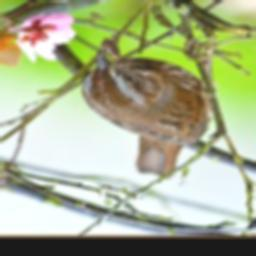Sparrow: (79, 37, 225, 180)
